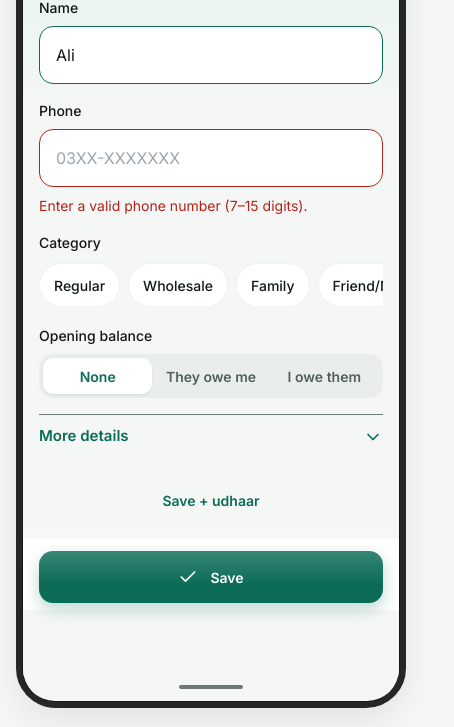
complete customer flow › validates, saves, records credit/payment and persists after remount
Earlier steps of the test are not shown.
Later steps or results of the test are not shown.
(page scrolled)
Type "03001234567" into the field labelled "Phone" at (211, 158), box [39,129,383,187]
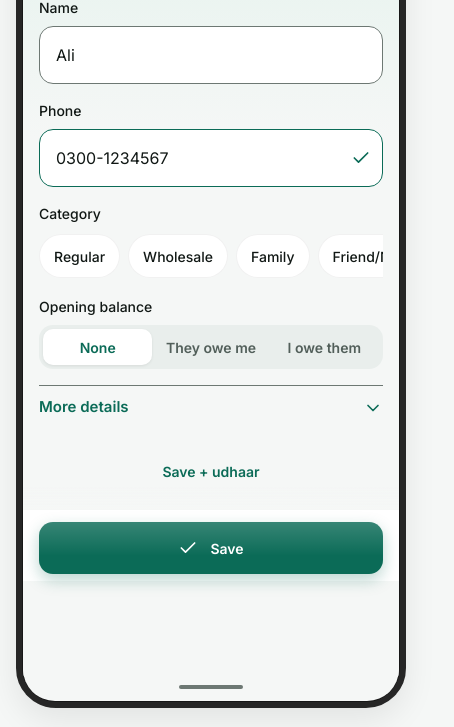
Click the button "Save" at (211, 548), box [39,522,383,574]
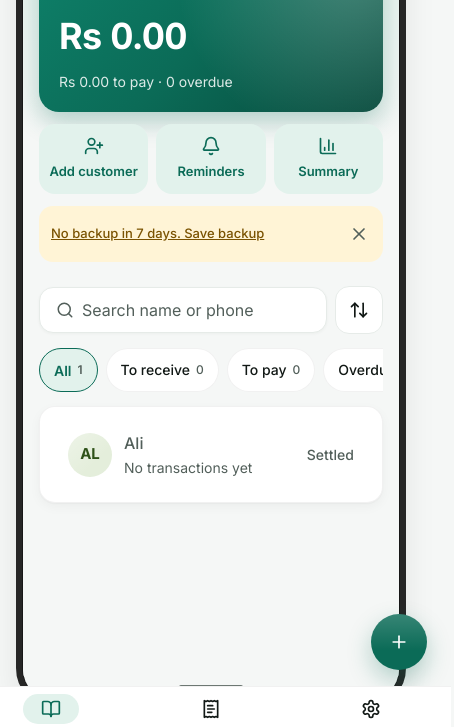
Click the link "AL Ali No transactions yet Settled" at (90, 454), box [52,418,370,490]
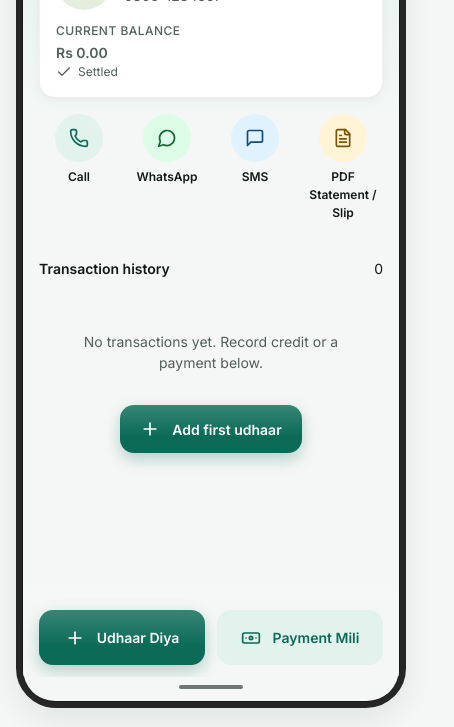
Click the link "Udhaar Diya" at (122, 638), box [39,610,205,665]
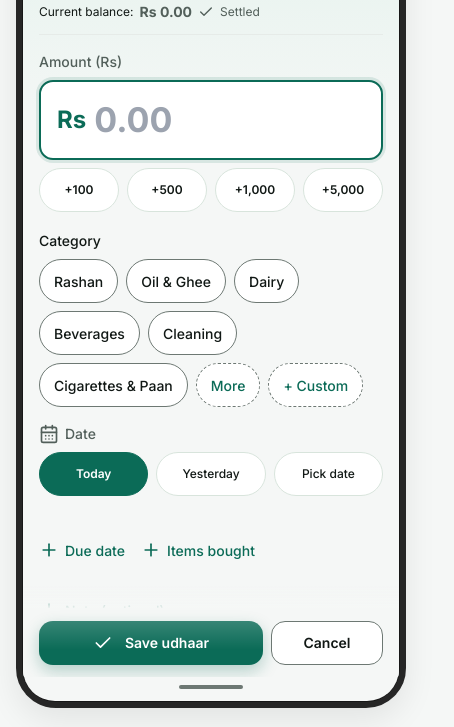
Type "100.10" into the field labelled "Amount (Rs)" at (230, 120), box [94,94,365,146]
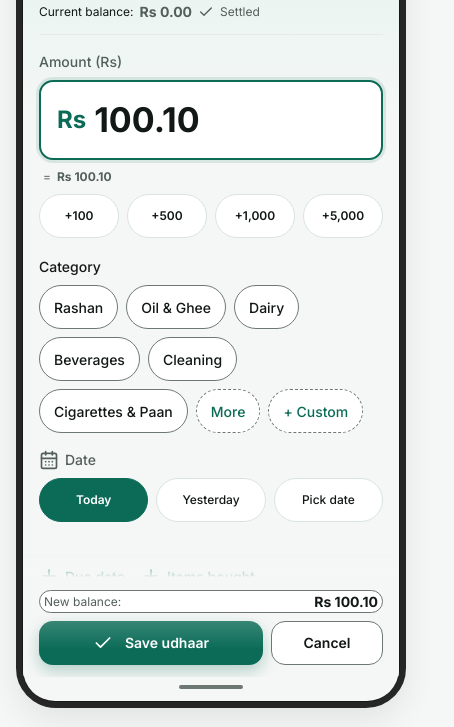
Click the button "Save udhaar" at (151, 643), box [39,621,263,665]
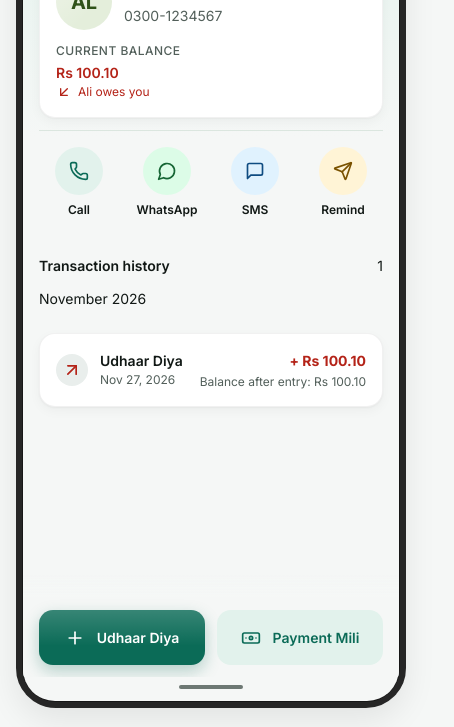
Expected: the text "Rs 100.10" below "Current balance" is shown, [56,64,119,81]
